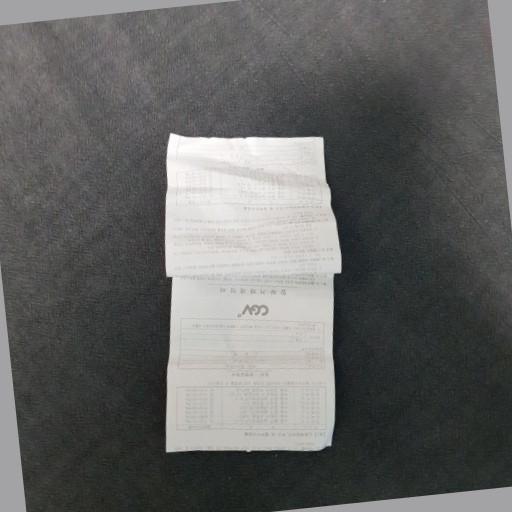Paper_3: (147, 129, 363, 470)
